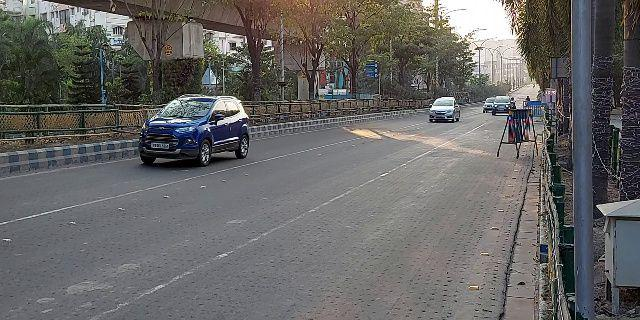Car: (135, 90, 253, 168), (426, 96, 462, 126), (483, 93, 511, 116)
